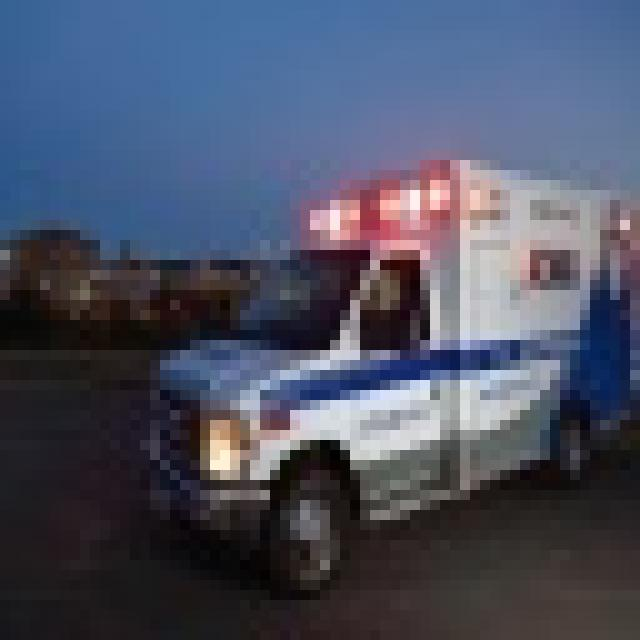Ambulance: (140, 150, 630, 590)
